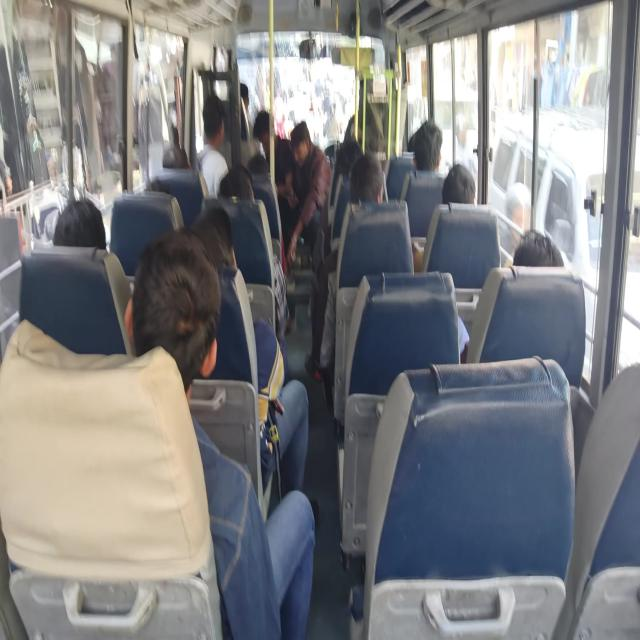person: (124, 230, 316, 638), (192, 205, 310, 499), (319, 151, 414, 400), (285, 121, 331, 270), (252, 108, 295, 200), (196, 94, 229, 198), (52, 197, 106, 249), (500, 181, 531, 255), (512, 228, 564, 267), (349, 151, 385, 205), (408, 120, 442, 172), (441, 163, 476, 204)
